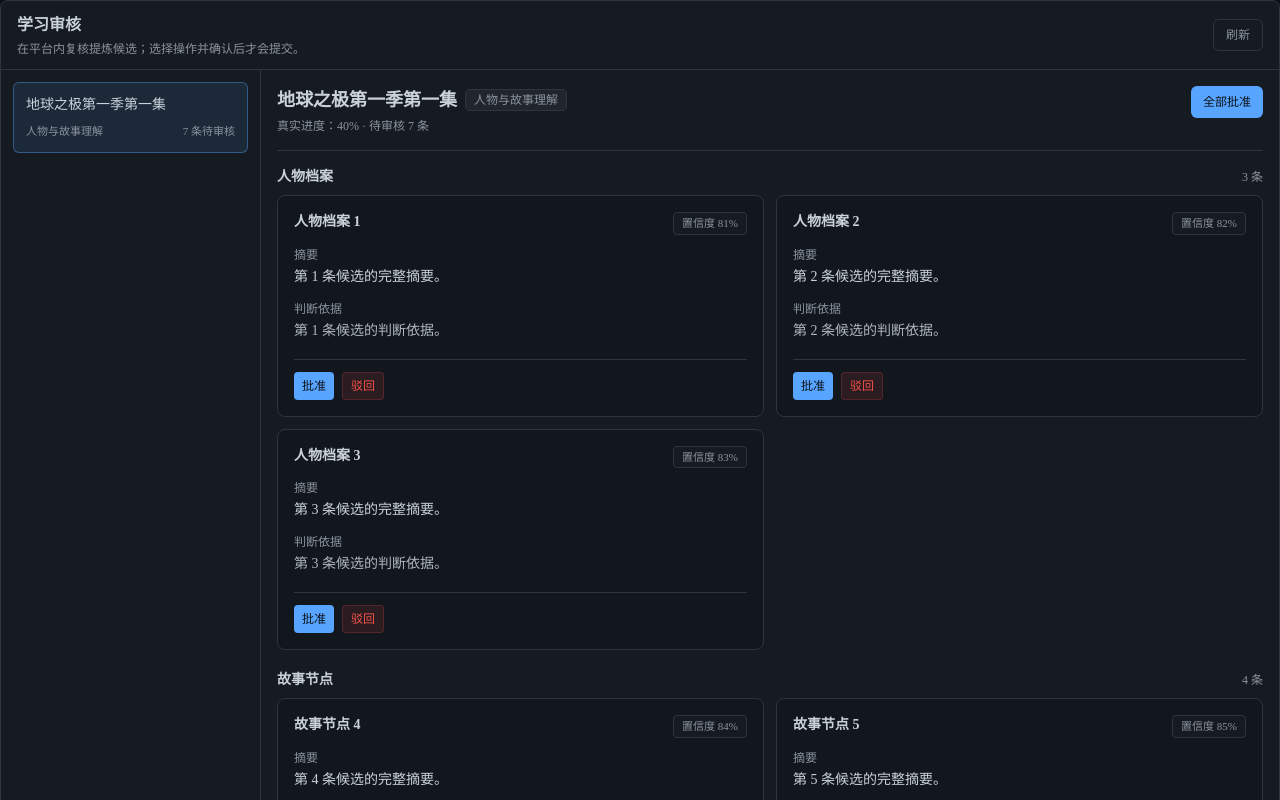
DirectorLearningReviewPanel › focuses a prepared confirmation and Escape cancels it remotely before closing
Click the button with aria-label "驳回：人物档案 1".
click(363, 386)  # box [342,372,384,400]
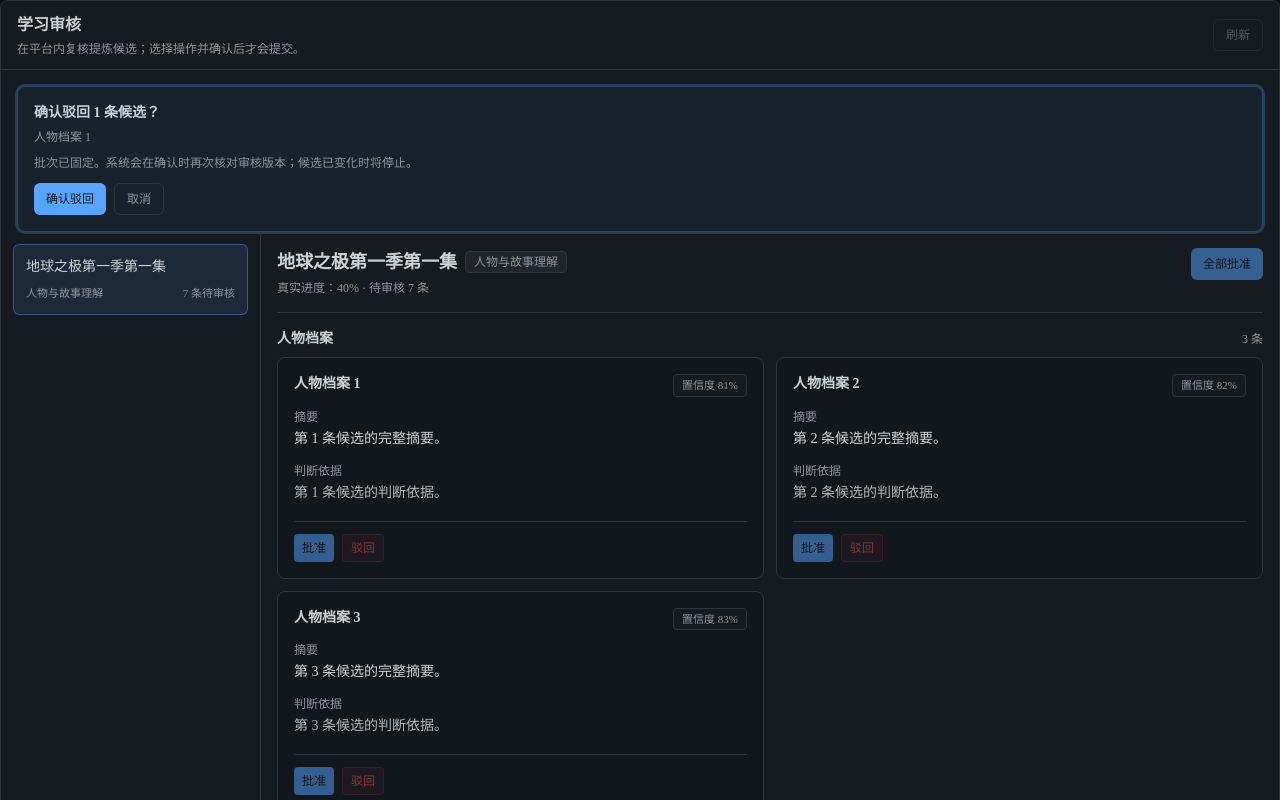
Press Escape
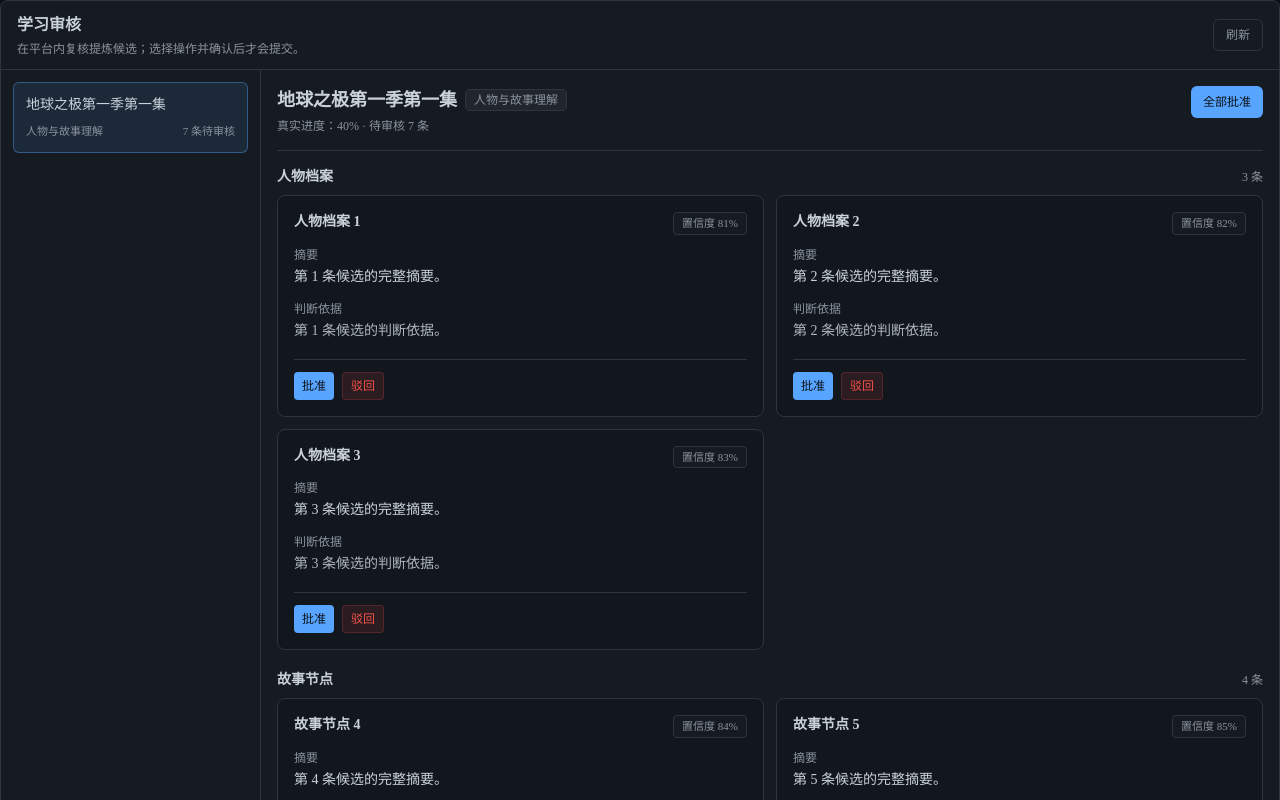
Now the dialog is gone
